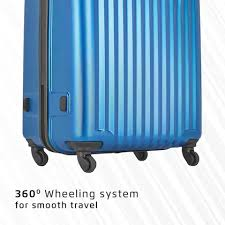suitcase: (21, 1, 204, 174)
